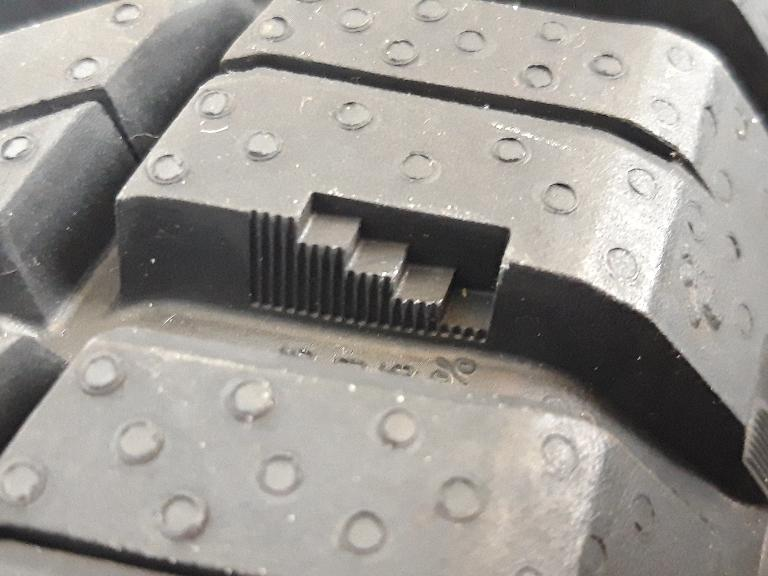temoin:100: (242, 188, 517, 354)
